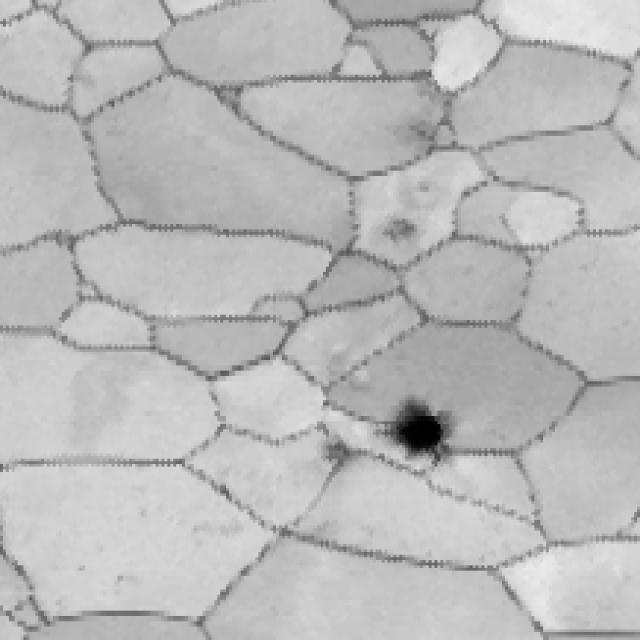good_void: (374, 391, 458, 473), (311, 437, 358, 469), (378, 210, 418, 244), (399, 117, 434, 148), (111, 573, 139, 590), (413, 180, 436, 197)
